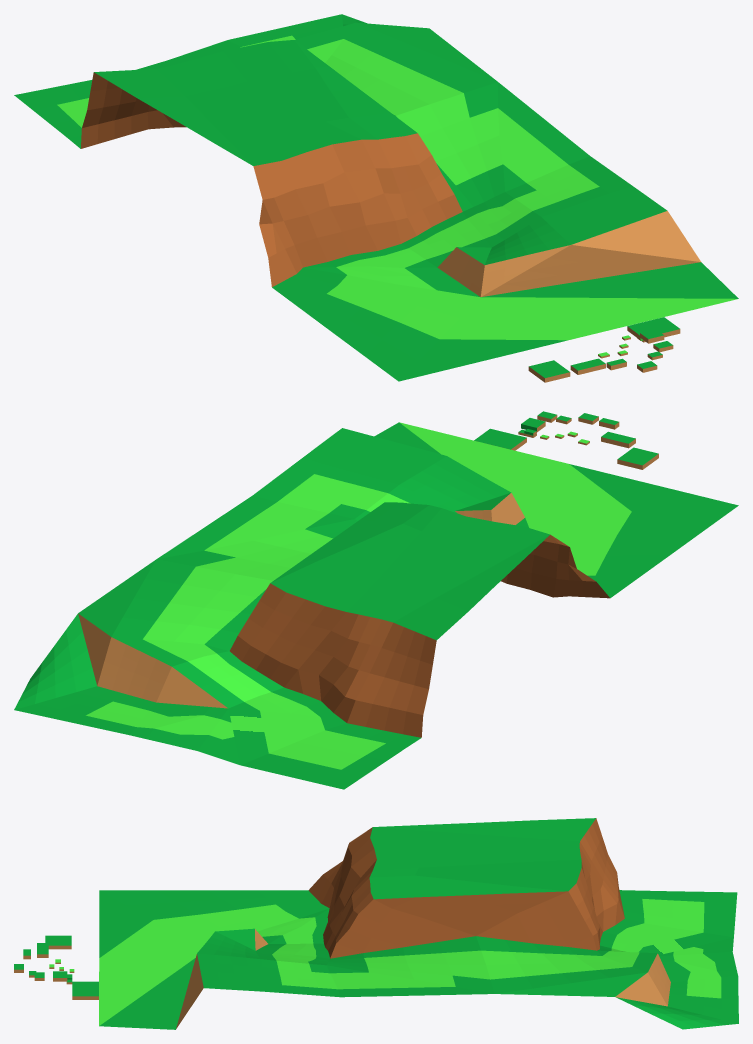
File: Level2World.glb
The picture shows the model from 3 angles, top to bottom: view 1: azimuth 30°, elevation 25°; view 2: azimuth 150°, elevation 25°; view 3: azimuth 270°, elevation 25°; orthographic projection. The views are drawn at different scales.
Parts seen in each view (by area): view 1: Terrain, Platforms; view 2: Terrain, Platforms; view 3: Terrain, Platforms.
Part boxes in pixels (left/top/right/bottom): Terrain: left=14, top=14, right=738, bottom=381; Platforms: left=528, top=317, right=680, bottom=382; Terrain: left=14, top=422, right=738, bottom=789; Platforms: left=474, top=411, right=658, bottom=469; Terrain: left=99, top=818, right=738, bottom=1029; Platforms: left=14, top=935, right=98, bottom=999.
Size of the model in its own units: 81.35 by 20.35 by 177.
1 material, 1 textured.
